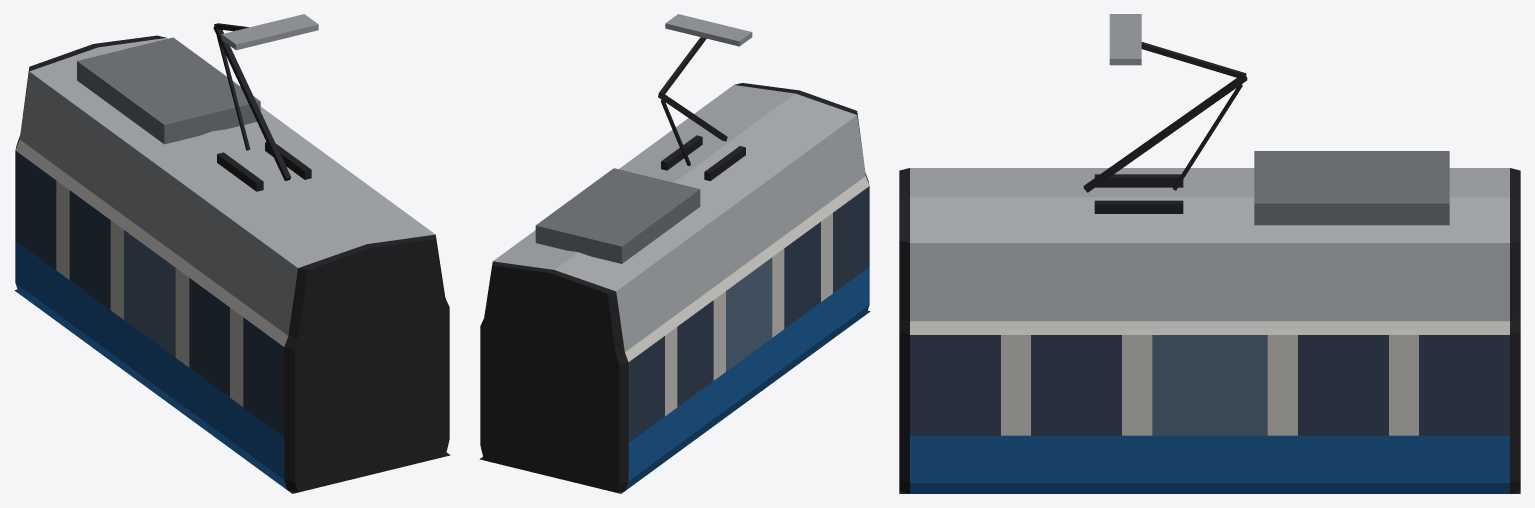
File: tram2000_mittel.glb
The picture shows the model from 3 angles, left to right: view 1: azimuth 30°, elevation 25°; view 2: azimuth 150°, elevation 25°; view 3: azimuth 270°, elevation 25°; orthographic projection. The views are drawn at different scales.
Parts seen in each view (by area): view 1: body; view 2: body; view 3: body.
Boxes of the visible parts, left/top/right/bottom form: body: left=14, top=14, right=450, bottom=493; body: left=479, top=14, right=870, bottom=493; body: left=899, top=14, right=1520, bottom=493.
Bounding box in the file's own units: 2.4 × 5.15 × 7.
